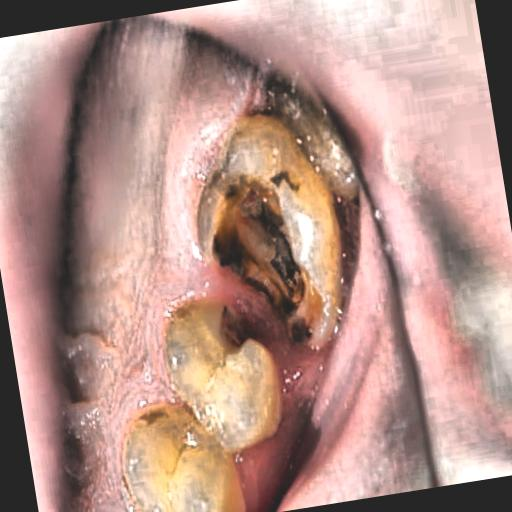Caries: (183, 139, 372, 414)
